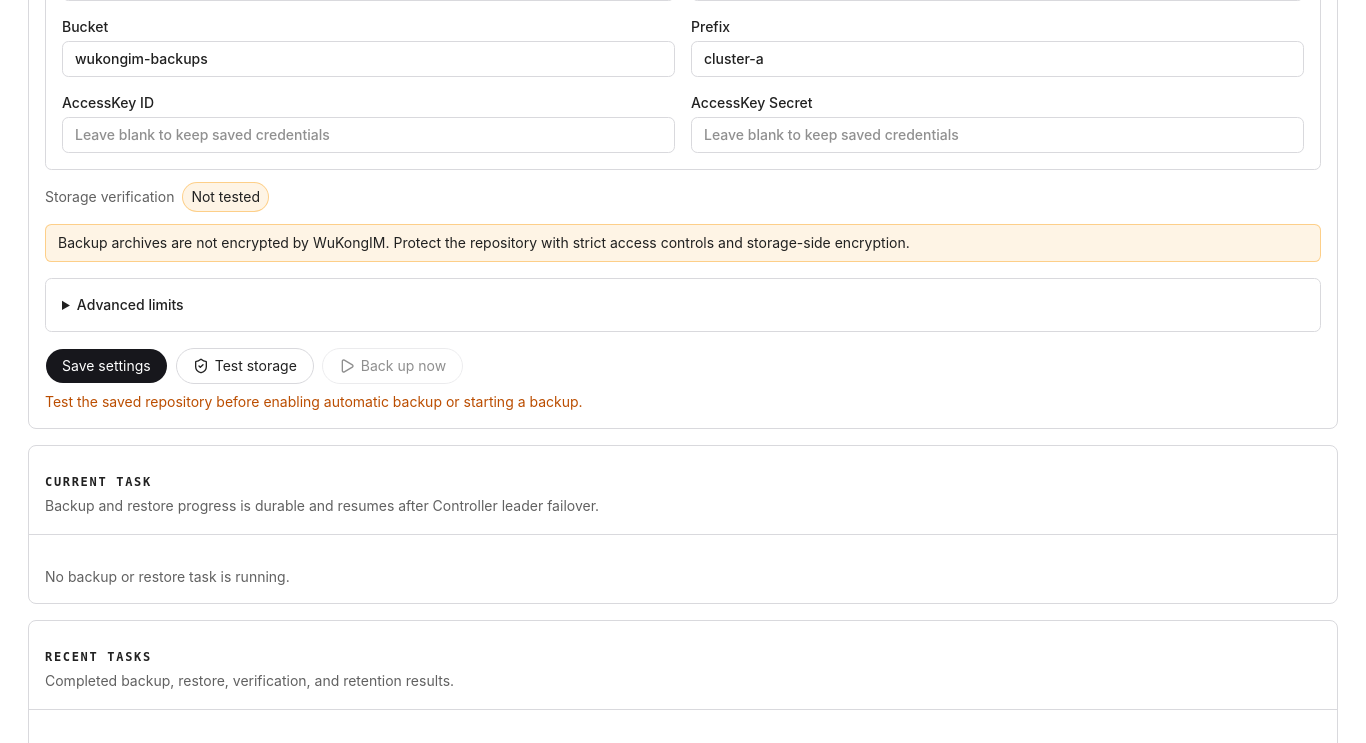
Test case: requires explicit unverified repositories to be tested before backup
(page scrolled)
Check: the button "Back up now" is disabled, box x1=322 y1=348 x2=463 y2=384
Check: the text "Not tested" is shown, box x1=182 y1=182 x2=269 y2=212
Click the button "Test storage". click: [245, 366]
box: x1=176 y1=348 x2=314 y2=384
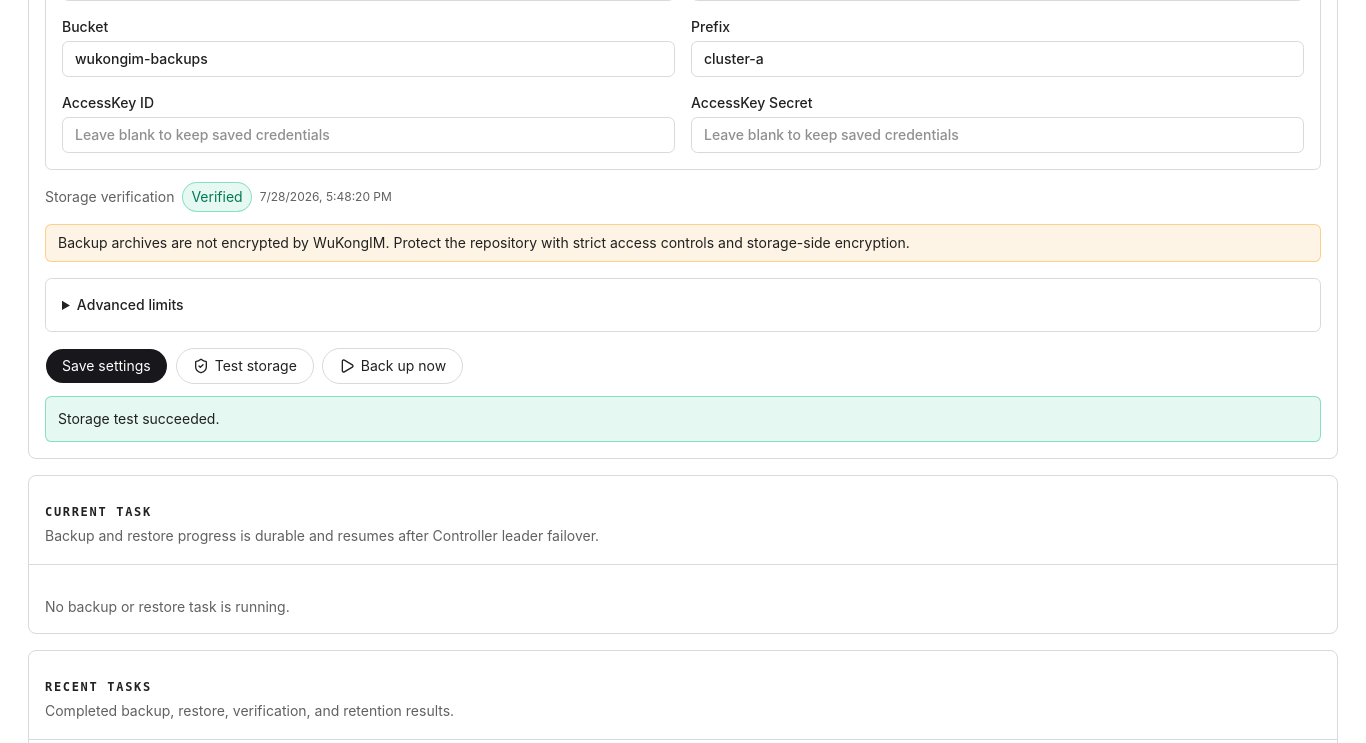
Check: the text "Verified" is shown, box x1=182 y1=182 x2=252 y2=212
